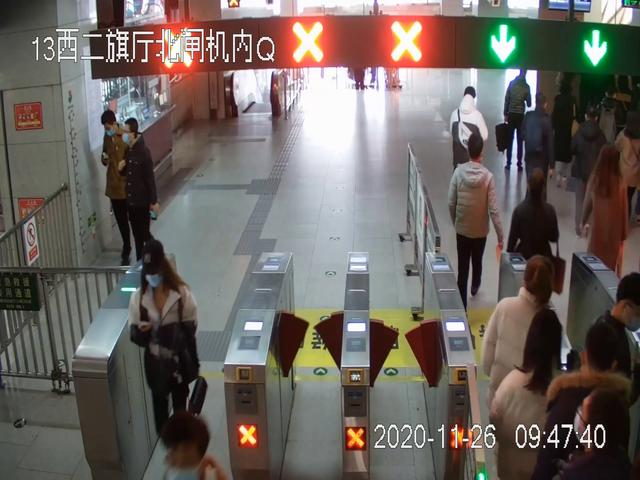person: (534, 320, 637, 480), (129, 239, 202, 458), (490, 311, 570, 480), (507, 165, 566, 340), (448, 133, 504, 307), (579, 142, 629, 293), (566, 107, 615, 237), (99, 110, 139, 266), (449, 87, 488, 225), (123, 117, 158, 257), (523, 94, 555, 215), (501, 68, 530, 172)
